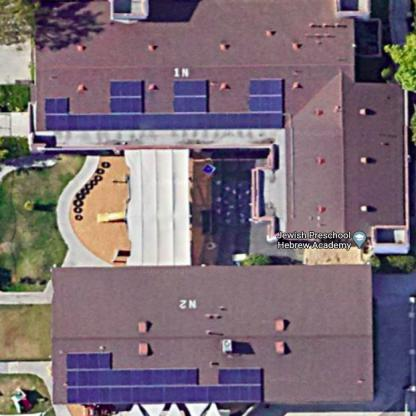solar_panel: (44, 68, 297, 134), (62, 346, 269, 411)
